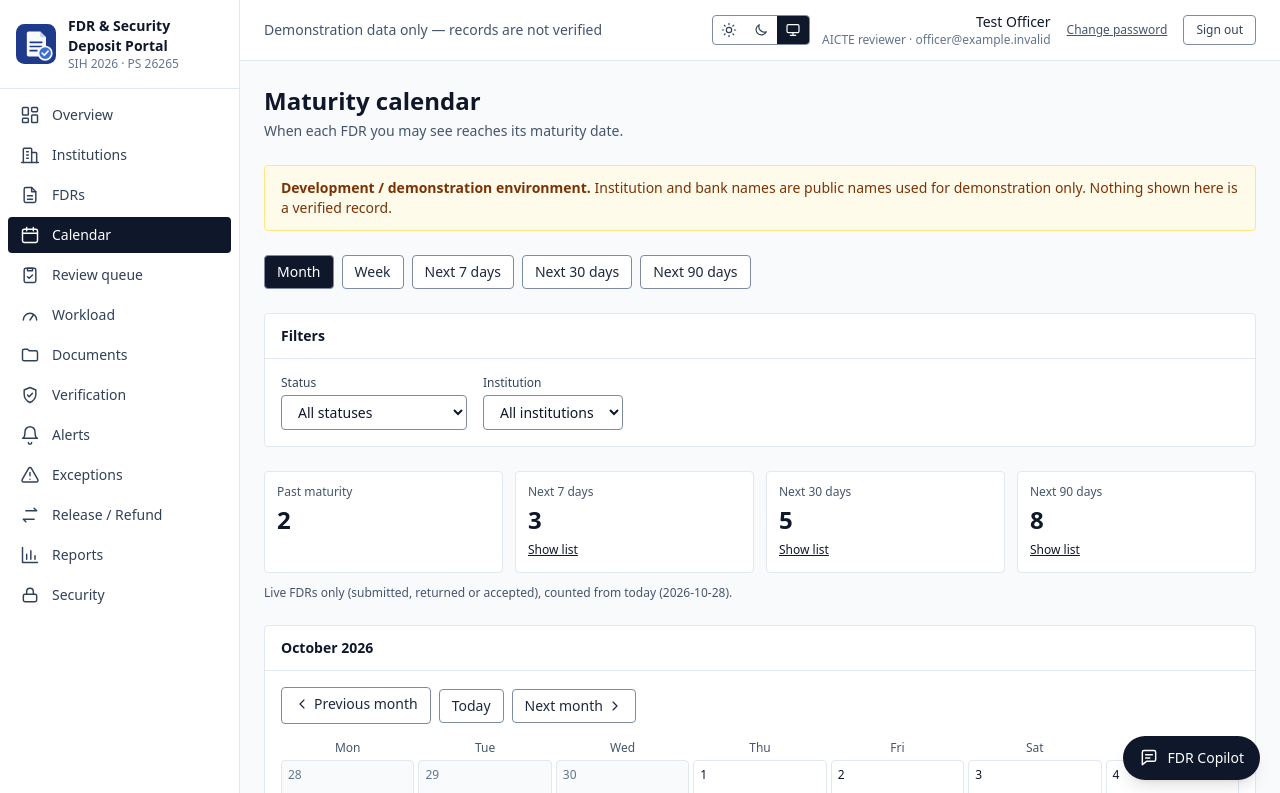
Test case: week and list views › lists the next 7 days from today, grouped by day, soonest first
Expected: the heading "Maturity calendar" is shown, [264,84,480,117]
Click the button "Next 7 days". click: (463, 272)
box: [412,255,514,289]
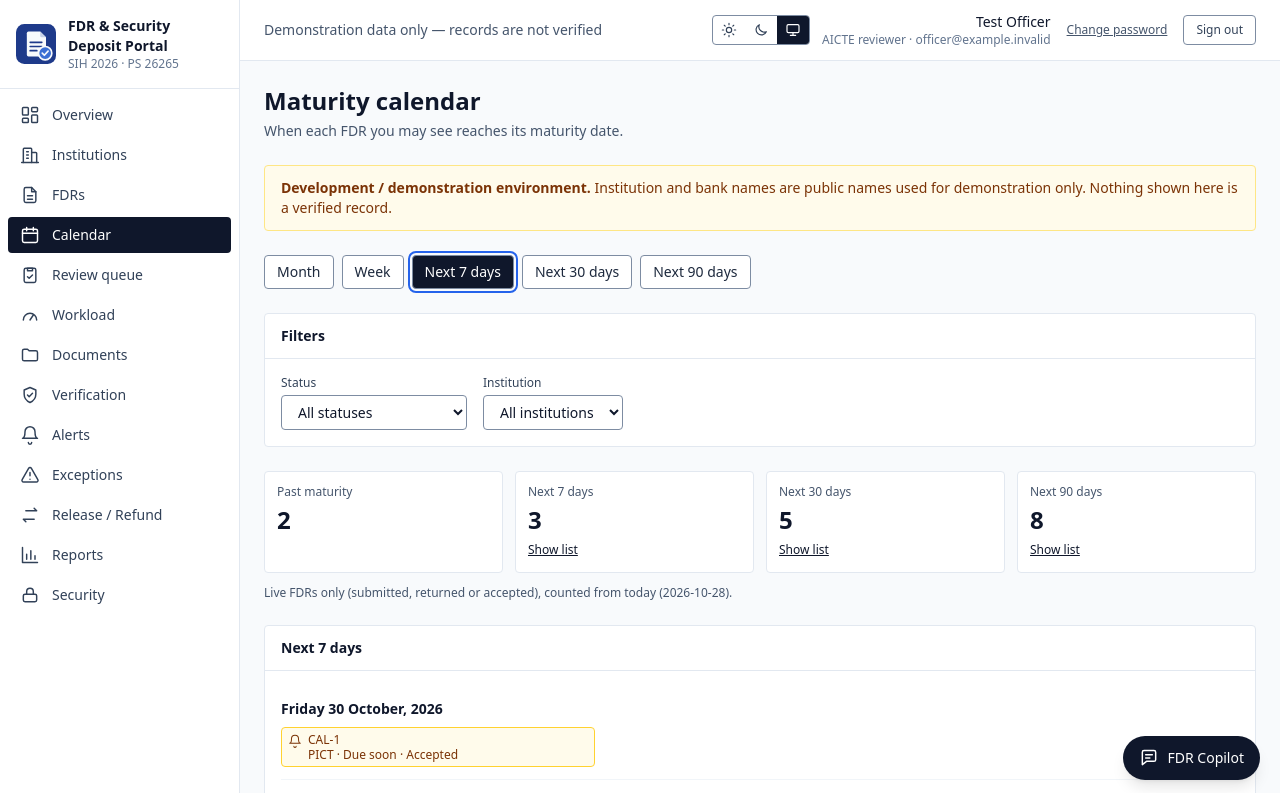
Expected: the button "Next month" is gone
